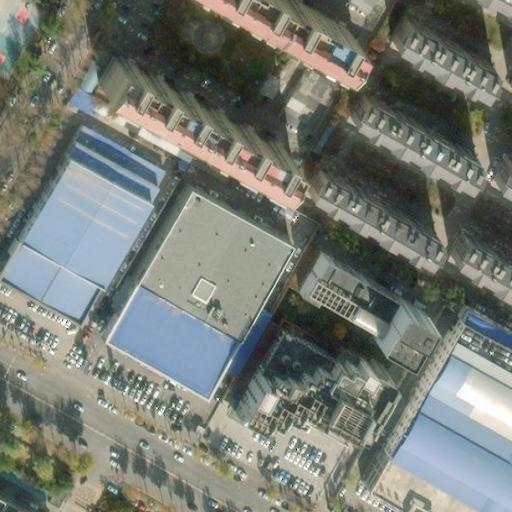building: (95, 190, 287, 403), (92, 52, 290, 185), (362, 401, 512, 512), (217, 246, 306, 385), (319, 168, 452, 260), (347, 91, 476, 182), (418, 335, 512, 454), (231, 360, 383, 433), (385, 10, 494, 90), (57, 132, 158, 204), (301, 251, 393, 326), (69, 117, 166, 182), (447, 231, 512, 293), (369, 293, 427, 354), (257, 333, 325, 378), (456, 322, 512, 366), (0, 486, 42, 512), (492, 154, 512, 191)
